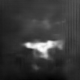plane: (21, 38, 66, 60)
